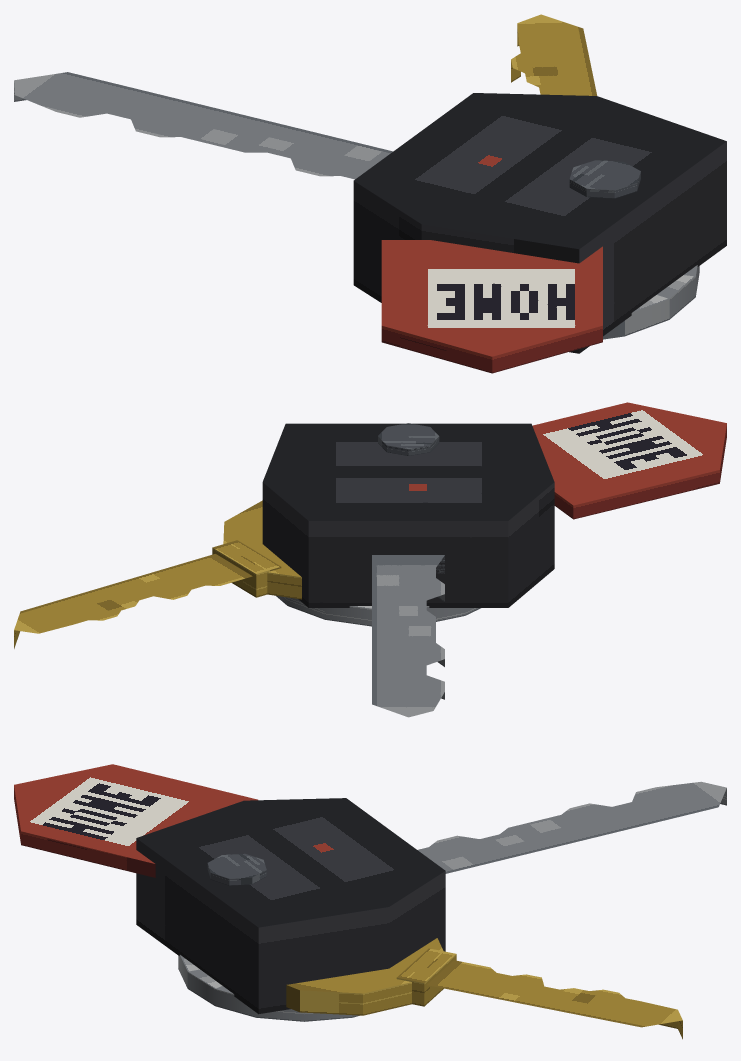
The model's file is INV_Keyring.glb.
The picture shows the model from 3 angles, top to bottom: view 1: azimuth 30°, elevation 25°; view 2: azimuth 150°, elevation 25°; view 3: azimuth 270°, elevation 25°; orthographic projection. The views are drawn at different scales.
Visible parts, largest first — view 1: INV_Keyring_Mesh; view 2: INV_Keyring_Mesh; view 3: INV_Keyring_Mesh.
Boxes of the visible parts, box(x1,y1,x2,y2) form: INV_Keyring_Mesh: box(14, 14, 726, 373); INV_Keyring_Mesh: box(14, 402, 726, 717); INV_Keyring_Mesh: box(14, 764, 726, 1039).
Size of what is drawn, in the model's own units: 0.0666 by 0.0157 by 0.0933.
1 material, 1 textured.
